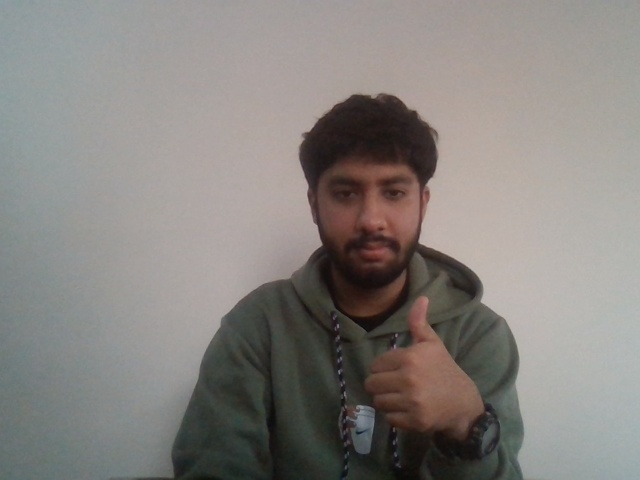Yes: (359, 295, 464, 435)
